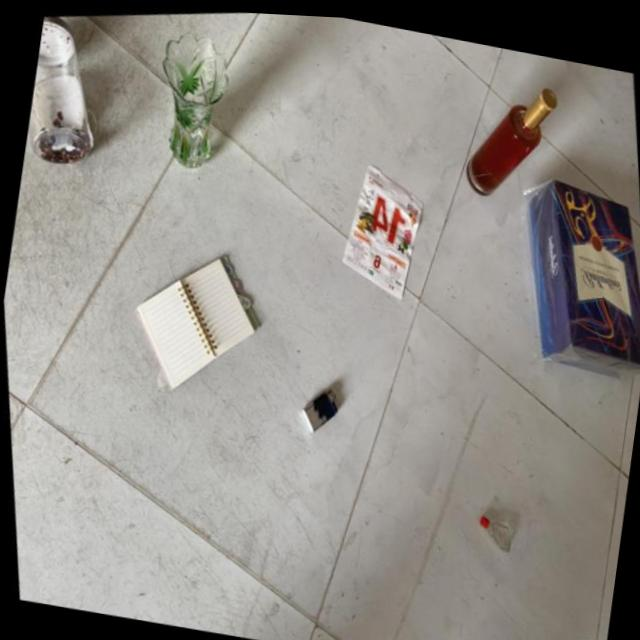foam box: (113, 5, 259, 226), (430, 62, 592, 230), (452, 476, 536, 583)
food: (111, 230, 292, 430), (304, 126, 457, 346)
leaf: (18, 4, 130, 202), (281, 369, 355, 458)
trash: (474, 145, 640, 450)
